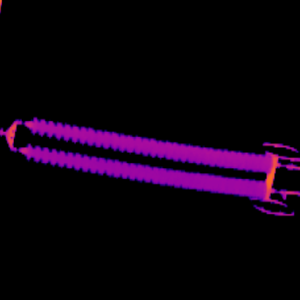insulator: (23, 112, 273, 175), (17, 139, 268, 201)
